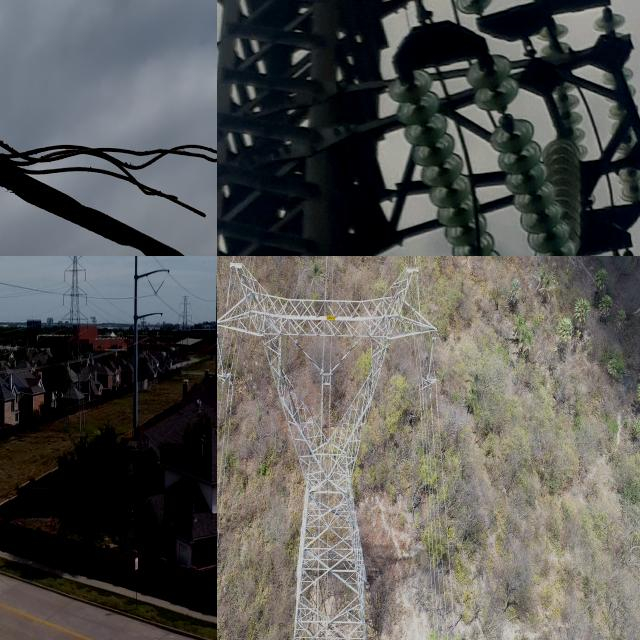杆塔: (217, 0, 640, 256), (217, 256, 452, 640), (56, 256, 92, 438)
正常绝缘子: (453, 42, 590, 256), (374, 65, 508, 256), (589, 4, 640, 205), (424, 332, 439, 385), (217, 326, 231, 380), (153, 274, 168, 299), (144, 276, 159, 297)
电缆破损: (0, 120, 217, 256)
绝缘子破损: (494, 110, 514, 125)
